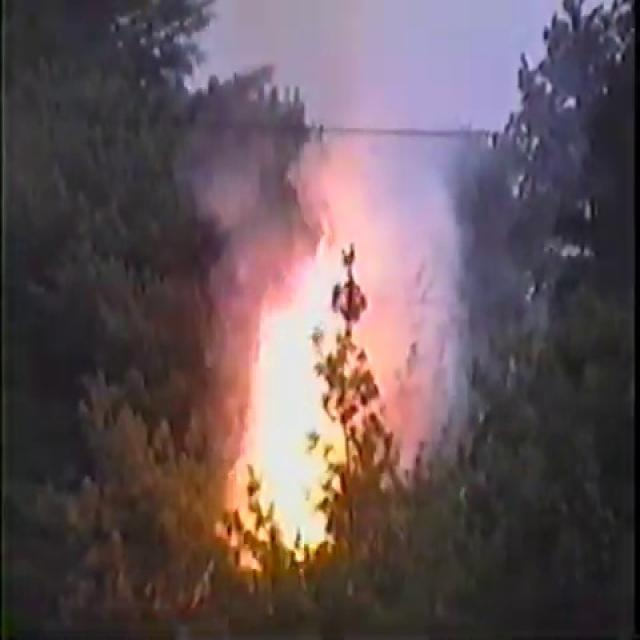Fire: (216, 218, 395, 568)
Smoke: (213, 4, 499, 367)
